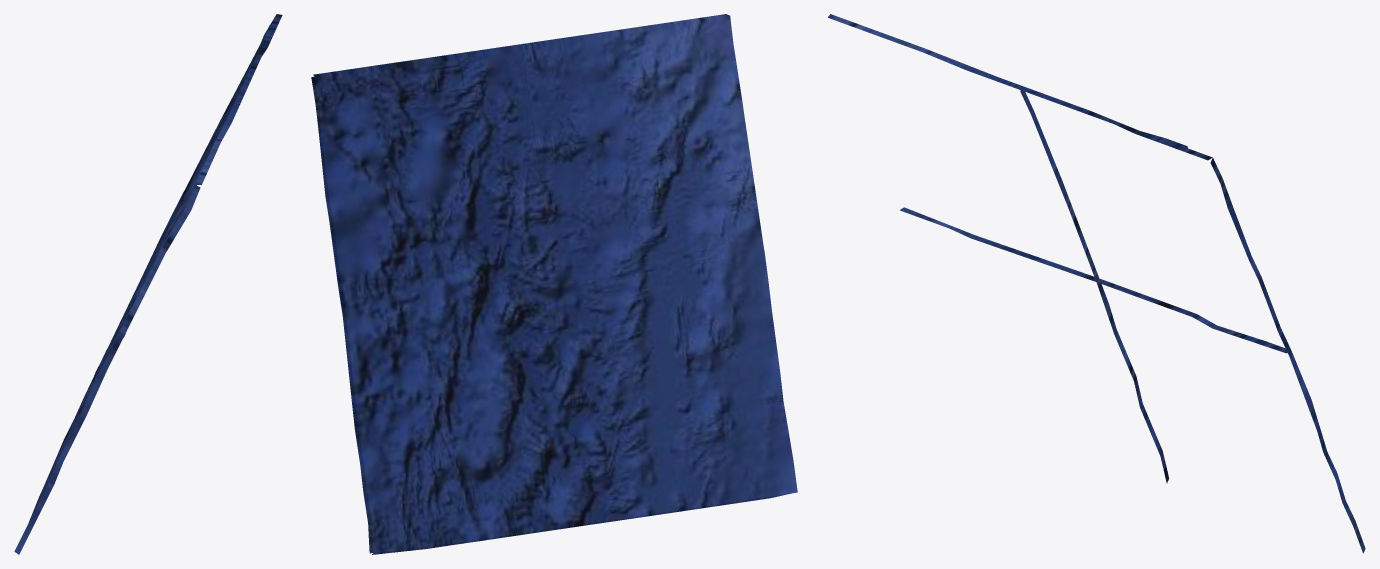
3 views of the same model, side by side, from view 1: azimuth 30°, elevation 25°; view 2: azimuth 150°, elevation 25°; view 3: azimuth 270°, elevation 25° (orthographic). The views are drawn at different scales.
Size of the model in its own units: 287954 by 289810 by 301574.
1 material, 1 textured.
